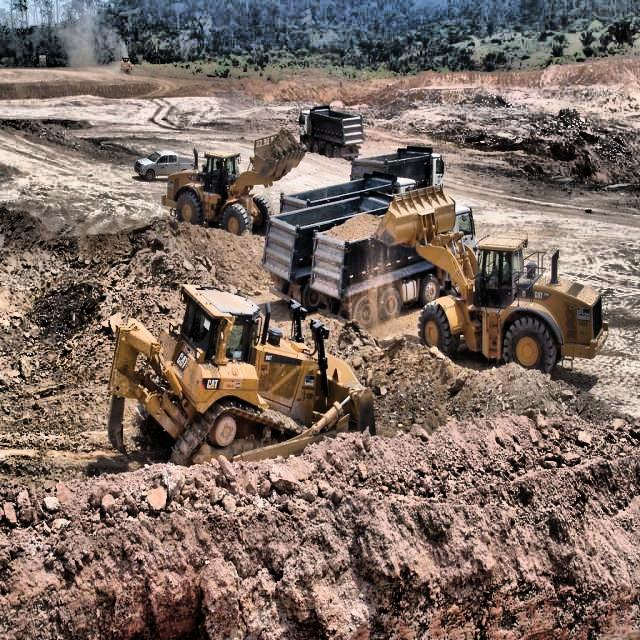bull_dozer/loader/grader: (90, 284, 400, 481)
